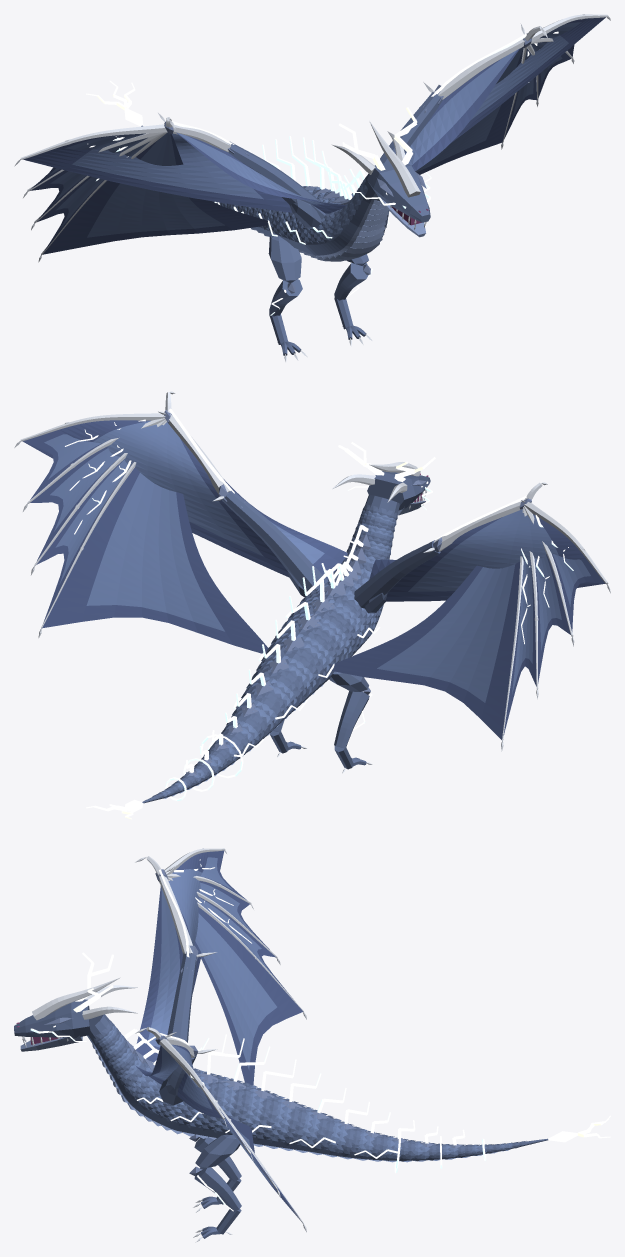
The model's file is Wyverne_Tempete_v2.glb.
The picture shows the model from 3 angles, top to bottom: view 1: azimuth 30°, elevation 25°; view 2: azimuth 150°, elevation 25°; view 3: azimuth 270°, elevation 25°; orthographic projection. The views are drawn at different scales.
Parts seen in each view (by area): view 1: Membrane, Membrane2, Body, Horns, Bolt, Belly, Scales, Bolt2, Plates; view 2: Membrane, Membrane2, Body, Horns, Bolt, Scales, Plates, Bolt2; view 3: Body, Membrane, Membrane2, Scales, Horns, Bolt, Plates, Belly, Bolt2.
Boxes of the visible parts, x1=… form: Membrane: x1=49, y1=22, x2=581, y2=237; Membrane2: x1=23, y1=17, x2=605, y2=254; Body: x1=141, y1=92, x2=442, y2=355; Horns: x1=14, y1=14, x2=610, y2=361; Bolt: x1=87, y1=31, x2=558, y2=315; Belly: x1=251, y1=193, x2=425, y2=261; Scales: x1=213, y1=180, x2=388, y2=243; Bolt2: x1=86, y1=80, x2=417, y2=170; Plates: x1=164, y1=33, x2=531, y2=293; Membrane: x1=44, y1=421, x2=590, y2=702; Membrane2: x1=23, y1=420, x2=605, y2=739; Body: x1=142, y1=471, x2=440, y2=803; Horns: x1=14, y1=391, x2=610, y2=773; Bolt: x1=65, y1=408, x2=573, y2=801; Scales: x1=158, y1=510, x2=396, y2=797; Plates: x1=164, y1=410, x2=531, y2=776; Bolt2: x1=86, y1=442, x2=435, y2=819; Body: x1=14, y1=953, x2=548, y2=1238; Membrane: x1=148, y1=857, x2=276, y2=1188; Membrane2: x1=136, y1=850, x2=303, y2=1219; Scales: x1=93, y1=1023, x2=513, y2=1161; Horns: x1=22, y1=848, x2=306, y2=1242; Bolt: x1=30, y1=859, x2=486, y2=1211; Plates: x1=44, y1=869, x2=462, y2=1176; Belly: x1=20, y1=1035, x2=510, y2=1162; Bolt2: x1=73, y1=952, x2=610, y2=1142.
Size of the model in its own units: 91.67 by 43.85 by 84.33.
